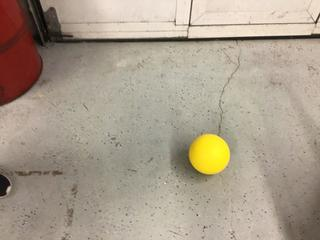power_cell: (186, 130, 234, 178)
